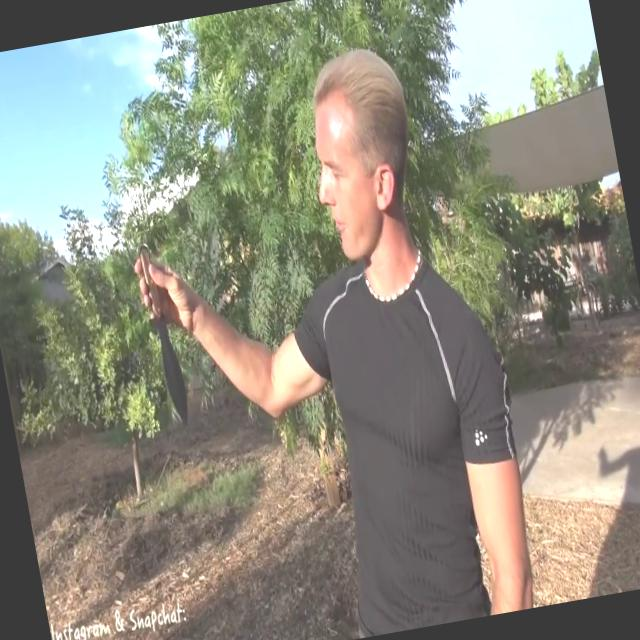knife: (121, 227, 202, 431)
